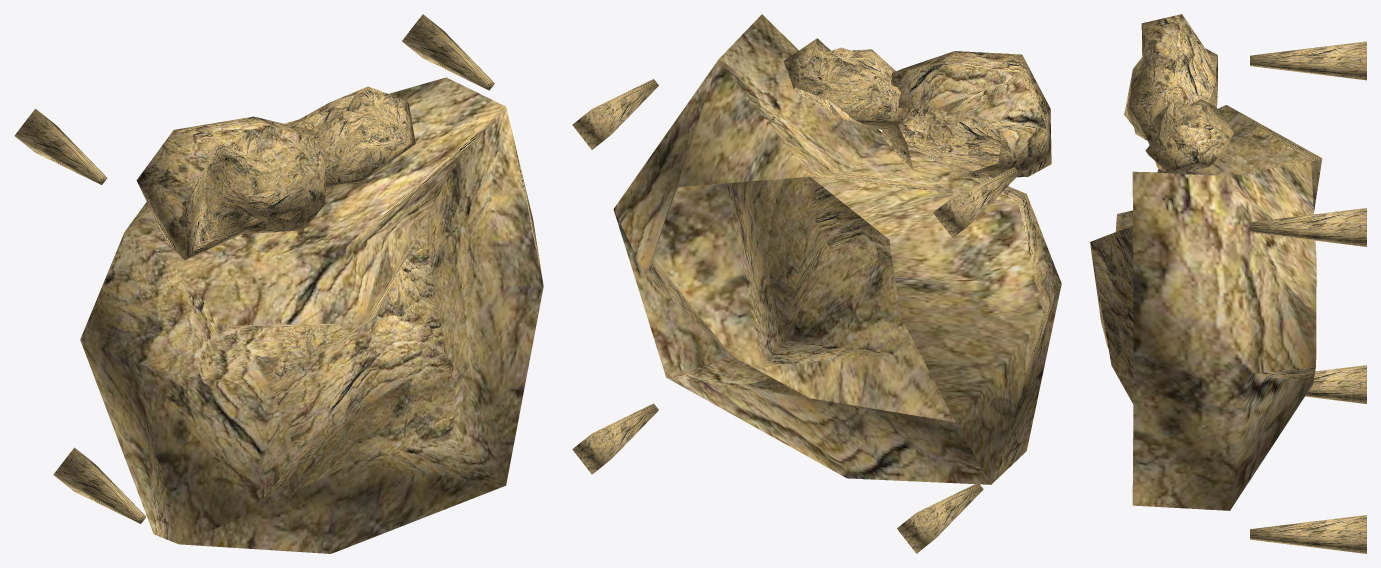
The model's file is stone_000009.obj.
3 renders of one model, left to right at view 1: azimuth 30°, elevation 25°; view 2: azimuth 150°, elevation 25°; view 3: azimuth 270°, elevation 25°, orthographic. The views are drawn at different scales.
Parts seen in each view (by area): view 1: Cube, Cube.001, Cube.002, Cylinder, Cylinder.003, Cylinder.001; view 2: Cube, Cube.001, Cube.002, Cylinder, Cylinder.001, Cylinder.003, Cylinder.002; view 3: Cube, Cube.001, Cube.002, Cylinder.002, Cylinder, Cylinder.001, Cylinder.003.
Boxes of the visible parts, <box> form: Cube: <box>80,77,543,553</box>; Cube.001: <box>136,116,326,259</box>; Cube.002: <box>290,86,415,192</box>; Cylinder: <box>14,108,107,184</box>; Cylinder.003: <box>53,447,145,523</box>; Cylinder.001: <box>402,14,494,90</box>; Cube: <box>613,14,1061,484</box>; Cube.001: <box>881,51,1051,178</box>; Cube.002: <box>783,38,910,130</box>; Cylinder: <box>933,167,1019,237</box>; Cylinder.001: <box>572,79,658,149</box>; Cylinder.003: <box>897,482,983,553</box>; Cylinder.002: <box>572,403,658,474</box>; Cube: <box>1090,105,1322,510</box>; Cube.001: <box>1124,14,1217,171</box>; Cube.002: <box>1145,99,1233,171</box>; Cylinder.002: <box>1250,515,1366,553</box>; Cylinder: <box>1250,41,1366,80</box>; Cylinder.001: <box>1250,208,1366,246</box>; Cylinder.003: <box>1305,365,1366,403</box>.
Bounding box in the file's own units: 6.67 × 6.36 × 3.97.
